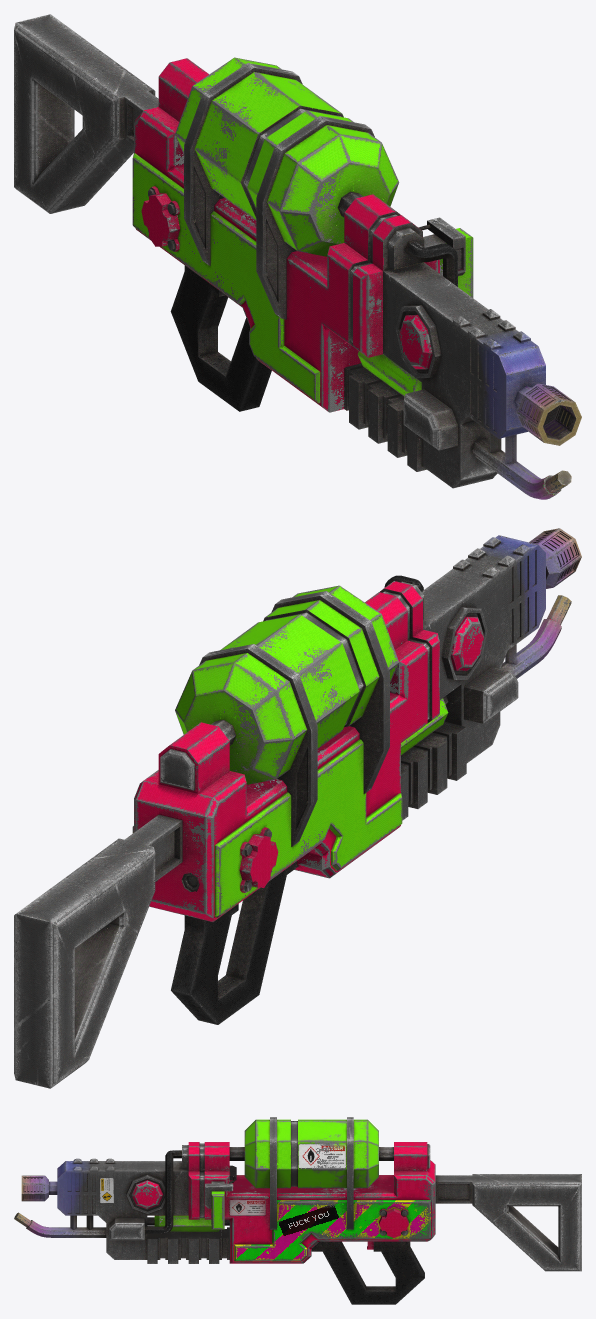
Rendered from flamethrower.glb.
The picture shows the model from 3 angles, top to bottom: view 1: azimuth 30°, elevation 25°; view 2: azimuth 150°, elevation 25°; view 3: azimuth 270°, elevation 25°; orthographic projection. The views are drawn at different scales.
Parts seen in each view (by area): view 1: flame_thrower; view 2: flame_thrower; view 3: flame_thrower.
Part boxes in pixels (x1,y1,x2,y2): flame_thrower: [14, 14, 581, 499]; flame_thrower: [14, 528, 581, 1088]; flame_thrower: [14, 1117, 581, 1304].
Size of the model in its own units: 0.2369 by 0.4982 by 1.4.
1 material, 1 textured.
